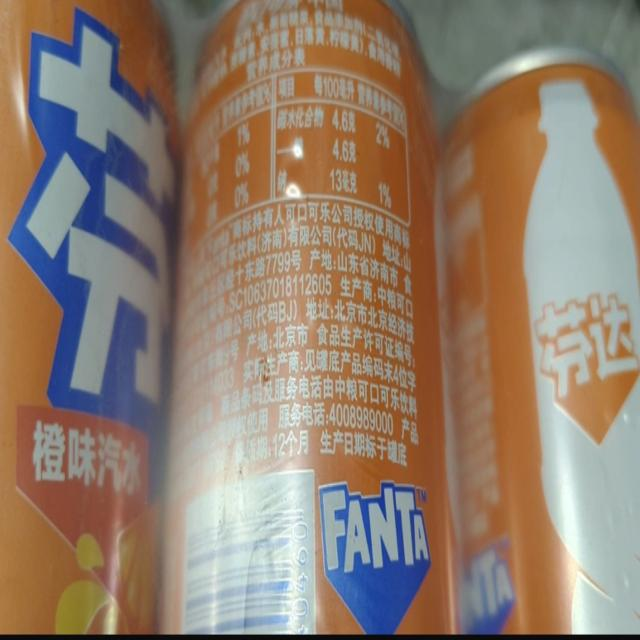orange: (8, 2, 180, 541)
